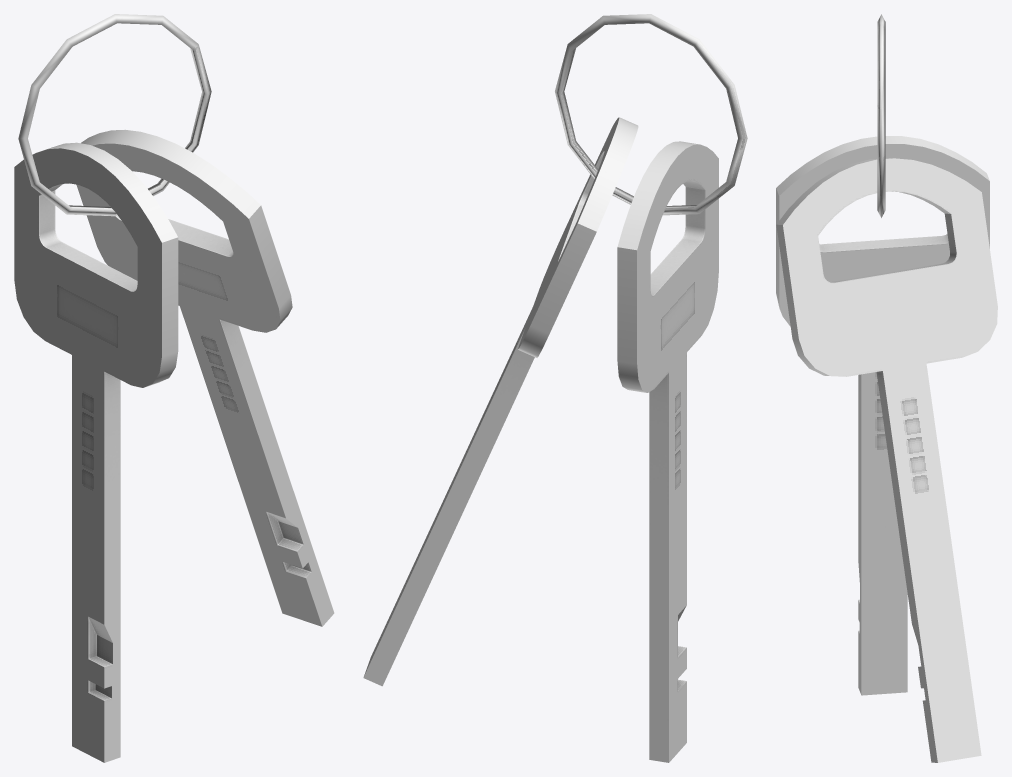
The model's file is scrap_keyring.glb.
3 renders of one model, left to right at view 1: azimuth 30°, elevation 25°; view 2: azimuth 150°, elevation 25°; view 3: azimuth 270°, elevation 25°, orthographic. The views are drawn at different scales.
Parts seen in each view (by area): view 1: key_low.001, key_low.002, kayattach_low; view 2: key_low.001, key_low.002, kayattach_low; view 3: key_low.002, key_low.001, kayattach_low.
Boxes of the visible parts, left/top/right/bottom form: key_low.001: left=14, top=142, right=178, bottom=762; key_low.002: left=76, top=129, right=334, bottom=626; kayattach_low: left=18, top=14, right=211, bottom=216; key_low.001: left=617, top=141, right=718, bottom=762; key_low.002: left=363, top=117, right=638, bottom=686; kayattach_low: left=555, top=14, right=747, bottom=215; key_low.002: left=776, top=158, right=997, bottom=762; key_low.001: left=776, top=136, right=989, bottom=695; kayattach_low: left=877, top=14, right=885, bottom=217.
Size of the model in its own units: 0.0494 by 0.1 by 0.0298.
1 material, 1 textured.
